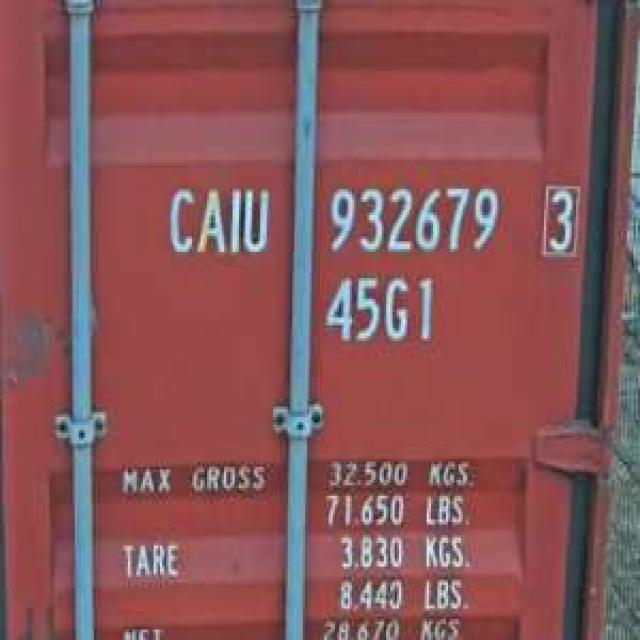dv: (536, 173, 582, 260)
owner: (160, 176, 273, 265)
serial: (320, 173, 506, 262)
size: (318, 268, 439, 352)
